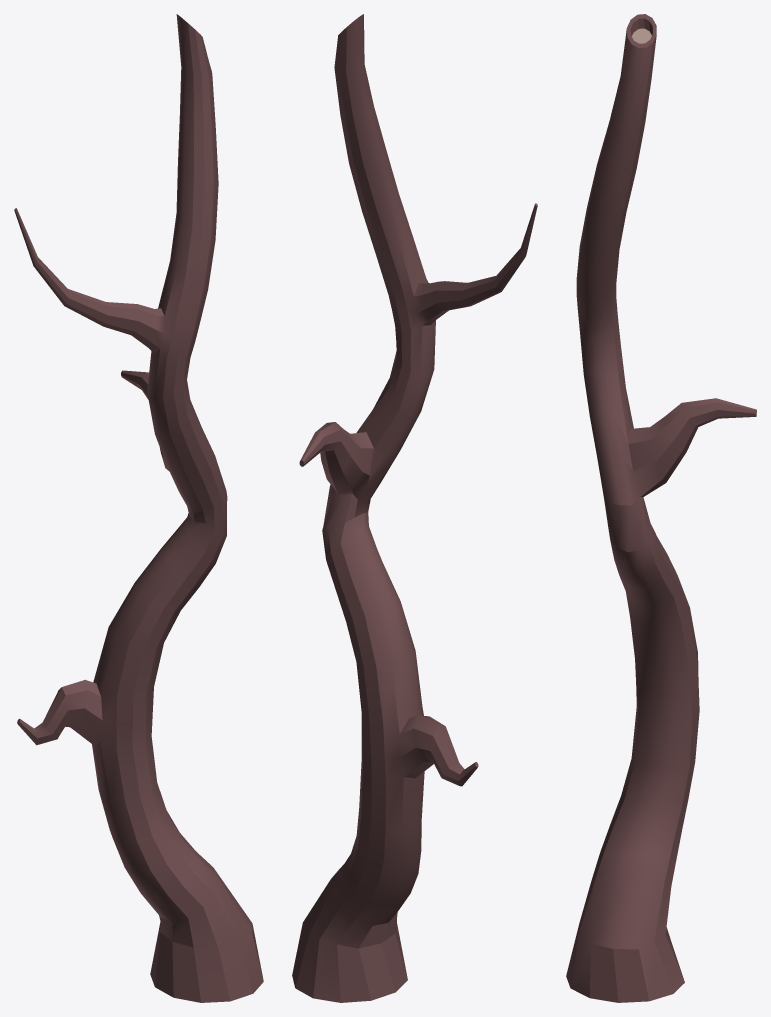
The model's file is arvorenua.fbx.
3 views of the same model, side by side, from view 1: azimuth 30°, elevation 25°; view 2: azimuth 150°, elevation 25°; view 3: azimuth 270°, elevation 25° (orthographic).
Parts seen in each view (by area): view 1: arvore_nua; view 2: arvore_nua; view 3: arvore_nua.
Boxes of the visible parts, left/top/right/bottom form: arvore_nua: left=14, top=14, right=263, bottom=1002; arvore_nua: left=292, top=14, right=537, bottom=1002; arvore_nua: left=566, top=14, right=756, bottom=1002.
Size of the model in its own units: 44.82 by 173 by 31.35.
